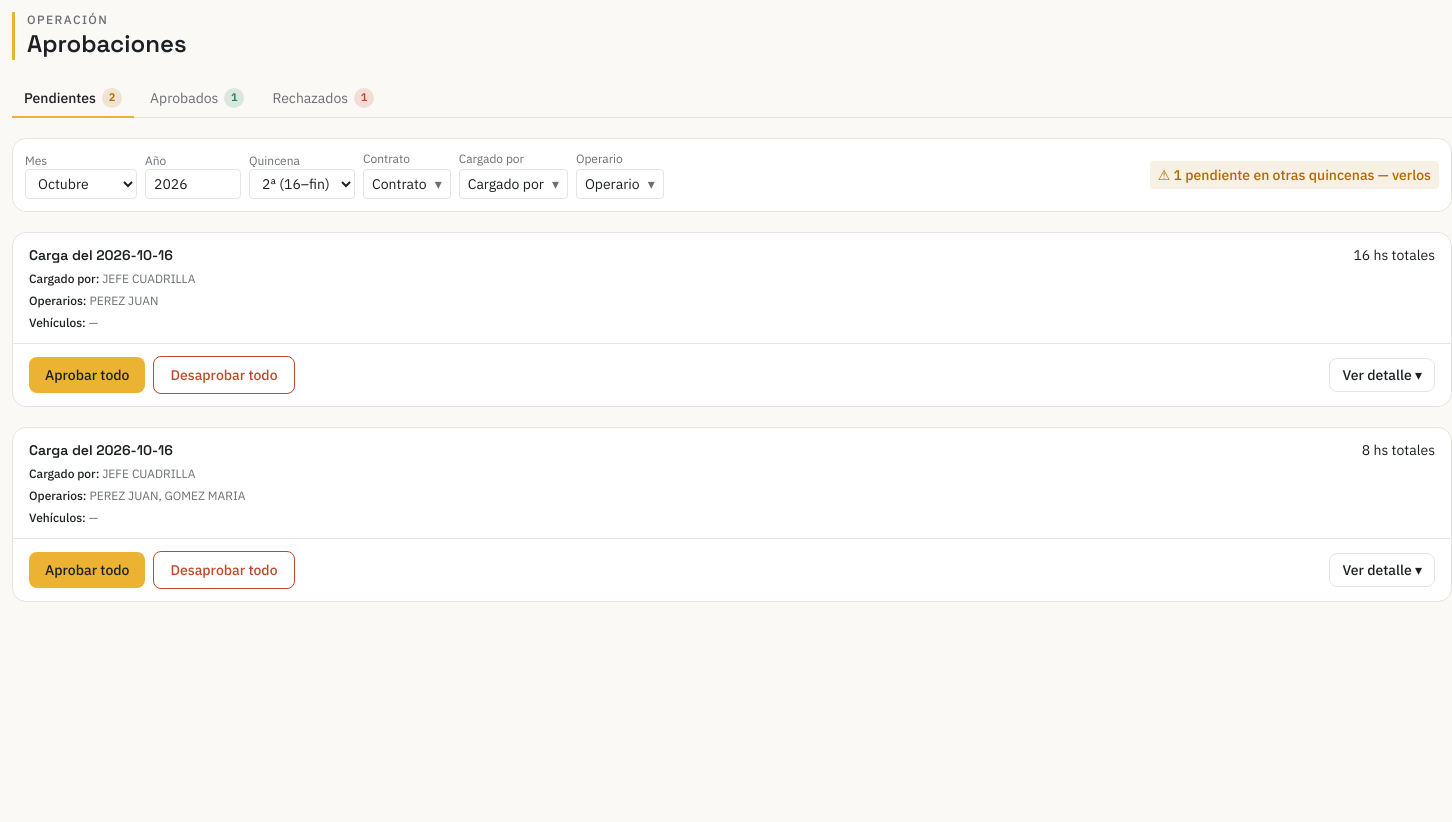
Test: AprobacionesPage › tildar un contrato filtra los lotes visibles en cliente
Expected: the number of buttons "Aprobar todo" is 2, [29,357,145,393]; [29,552,145,588]
Click the button with aria-label "Filtrar por contrato" at (407, 184), box [363,169,451,199]
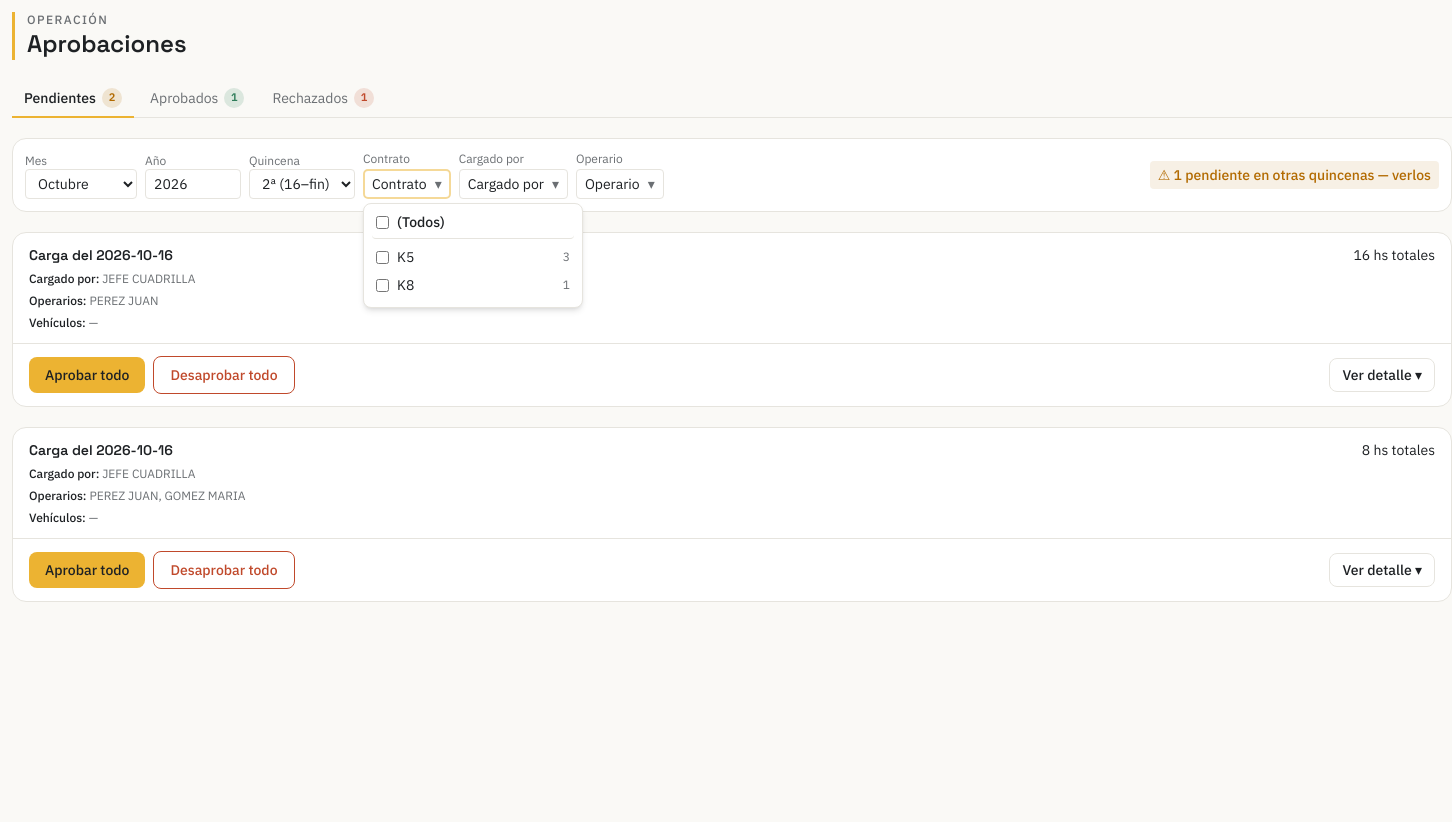
Click the checkbox labelled "K8" at (382, 285), box [376,278,389,292]
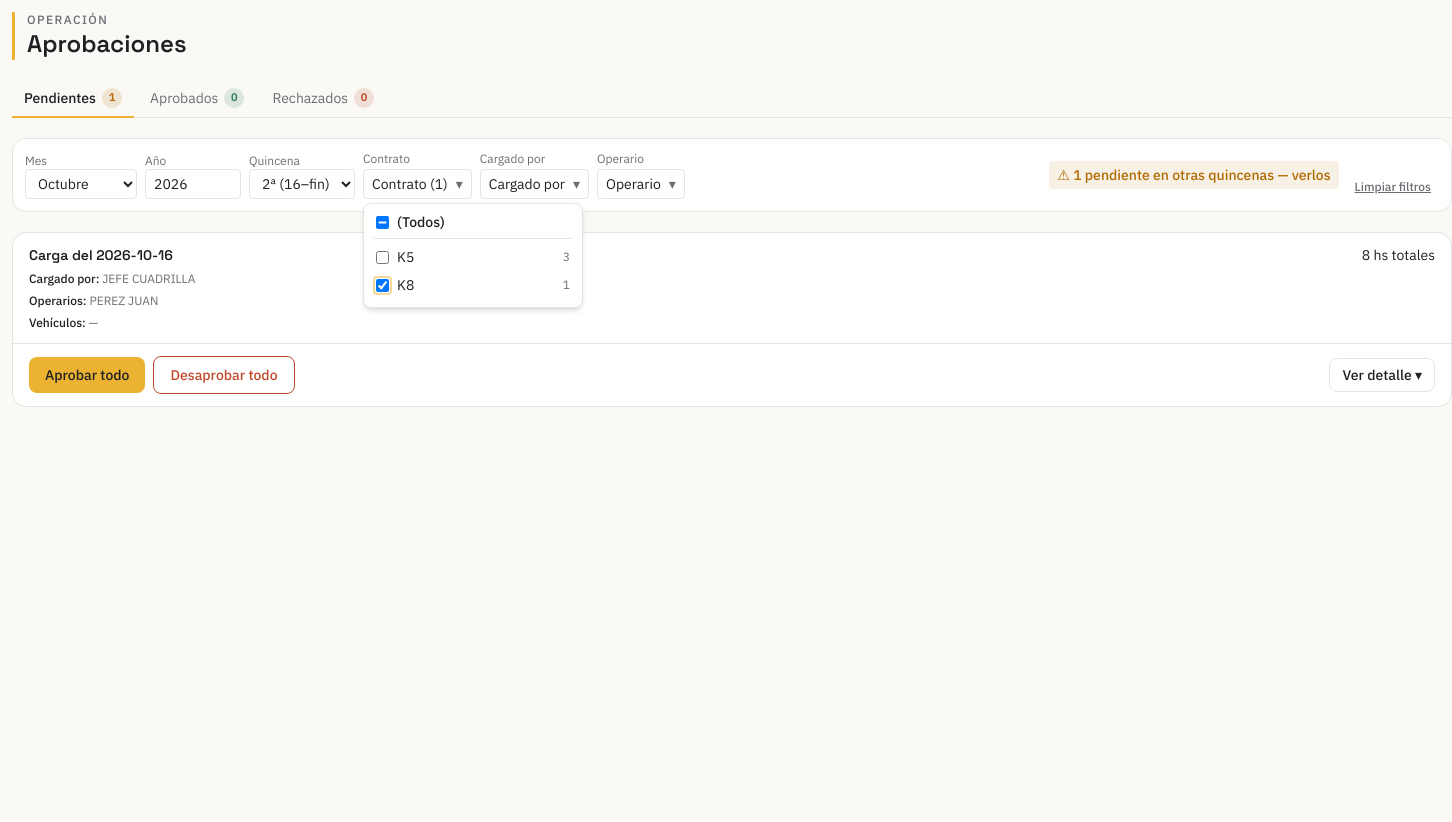
Expected: the number of buttons "Aprobar todo" is 1, [29,357,145,393]
